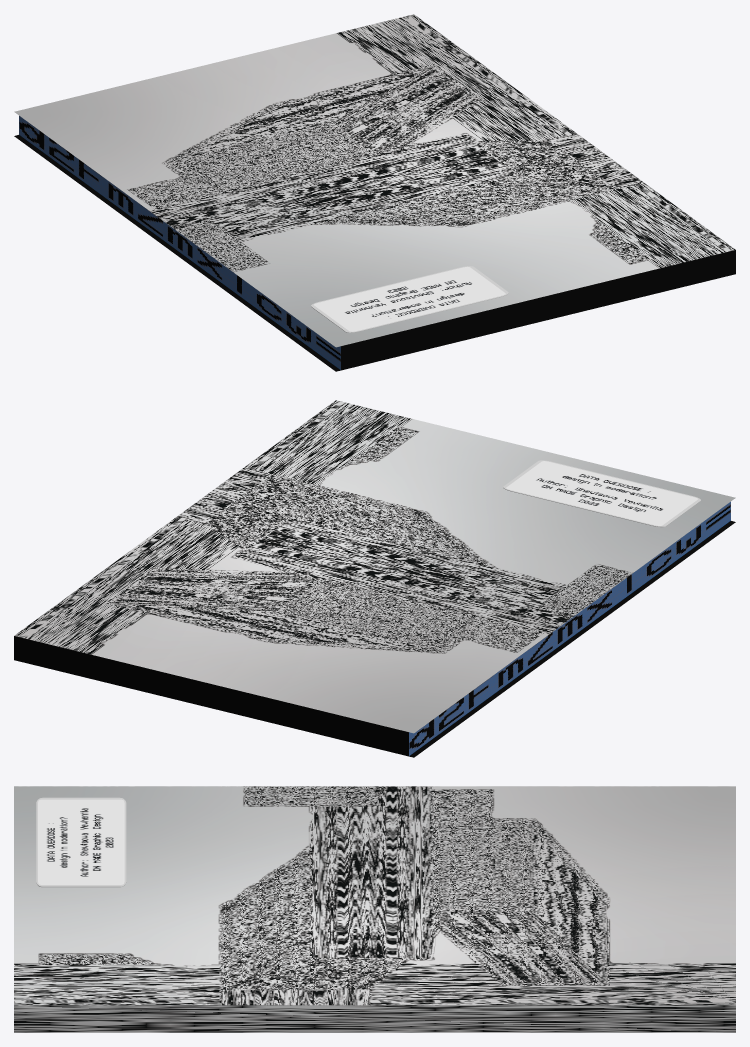
Rendered from memoir.fbx.
3 renders of one model, top to bottom at view 1: azimuth 30°, elevation 25°; view 2: azimuth 150°, elevation 25°; view 3: azimuth 270°, elevation 25°, orthographic. The views are drawn at different scales.
Parts seen in each view (by area): view 1: Cube, label; view 2: Cube, label; view 3: Cube, label.
Part boxes in pixels (box(x1,y1,x2,y2)): Cube: box(14, 14, 735, 371); label: box(311, 266, 508, 332); Cube: box(14, 400, 735, 757); label: box(503, 460, 700, 527); Cube: box(14, 786, 735, 1032); label: box(36, 797, 126, 887).
Size of the model in its own units: 17.22 by 1.04 by 24.
7 materials, 5 textured.
